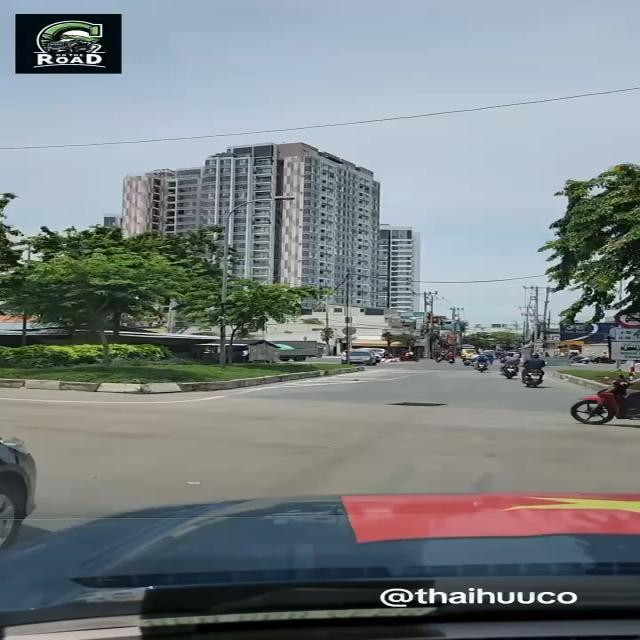103a-cam-oto: (615, 308, 640, 329)
